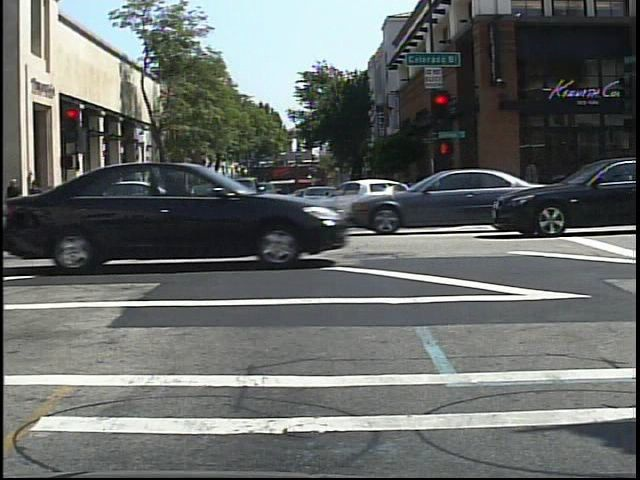person: (136, 181, 154, 218), (133, 181, 149, 214)
